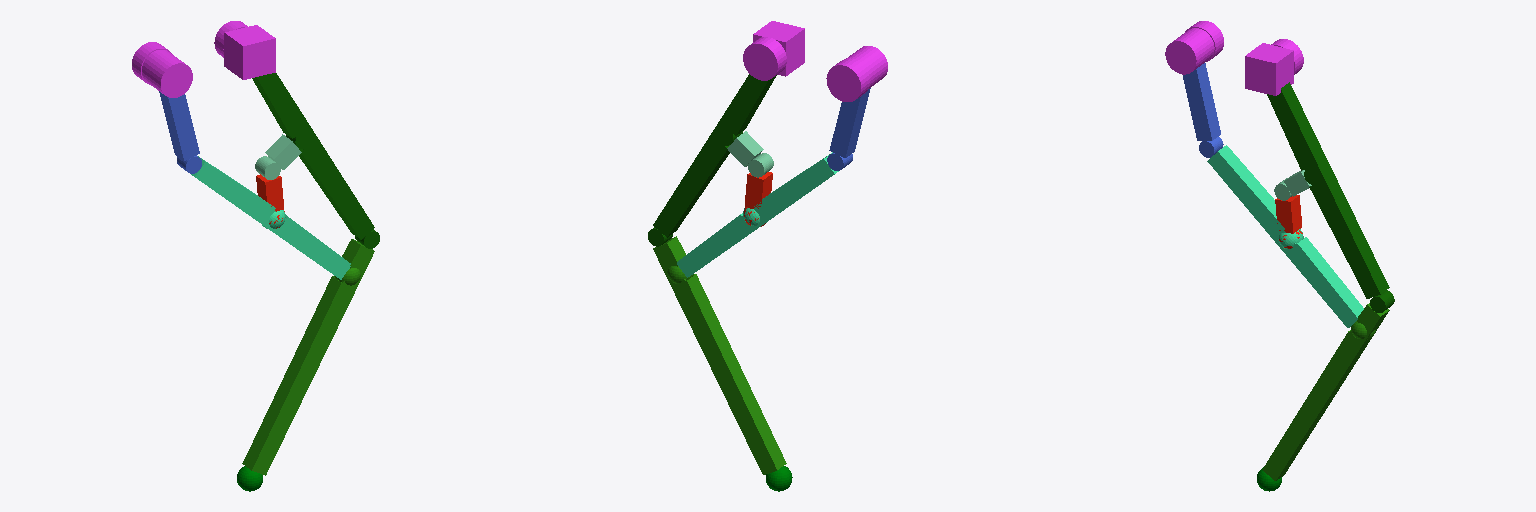
The robot description file, URDF, robot "Robot":
<?xml version="1.0"?>
<robot  name="Robot" >
 <link  name="G" >
  <visual >
   <origin  rpy="0.0 0.0 0.0"  xyz="0.0 0.0 0.0" />
   <geometry >
    <box  size="0.08 0.08 0.08" />
   </geometry>
   <material  name="G_Material" >
    <color  rgba="0.9223691772363326 0.2848757357348535 0.9494860424765409 1.0" />
   </material>
  </visual>
  <collision  name="G_Collision" >
   <origin  rpy="0.0 0.0 0.0"  xyz="0.0 0.0 0.0" />
   <geometry >
    <box  size="0.08 0.08 0.08" />
   </geometry>
  </collision>
  <inertial >
   <origin  rpy="0.0 0.0 0.0"  xyz="0.0 0.0 0.0" />
   <mass  value="0.4937142857142858" />
   <inertia  iyy="0.0005266285714285715"  iyz="0.0"  ixx="0.0005266285714285715"  ixy="0.0"  ixz="0.0"  izz="0.0005266285714285715" />
  </inertial>
 </link>
 <link  name="L4411" >
  <visual >
   <origin  rpy="0.0 0.035072854684332855 0.0"  xyz="0.004477741413357842 0.0 0.12761736311897556" />
   <geometry >
    <box  size="0.03999999910593033 0.03999999910593033 0.21539179040661732" />
   </geometry>
   <material  name="L4411_Material" >
    <color  rgba="0.1035849832252459 0.42423163126167585 0.04983455150299154 1.0" />
   </material>
  </visual>
  <collision  name="L4411_0_Collision" >
   <origin  rpy="0.0 0.035072854684332855 0.0"  xyz="0.004477741413357842 0.0 0.12761736311897556" />
   <geometry >
    <box  size="0.03999999910593033 0.03999999910593033 0.21539179040661732" />
   </geometry>
  </collision>
  <visual >
   <origin  rpy="0.0 0.0 0.0"  xyz="-1.3877787807814457e-17 0.0 0.28867513459481287" />
   <geometry >
    <box  size="0.03999999910593033 0.03999999910593033 0.5373502700836954" />
   </geometry>
   <material  name="L4411_Material" >
    <color  rgba="0.1035849832252459 0.42423163126167585 0.04983455150299154 1.0" />
   </material>
  </visual>
  <collision  name="L4411_1_Collision" >
   <origin  rpy="0.0 0.0 0.0"  xyz="-1.3877787807814457e-17 0.0 0.28867513459481287" />
   <geometry >
    <box  size="0.03999999910593033 0.03999999910593033 0.5373502700836954" />
   </geometry>
  </collision>
  <visual >
   <origin  rpy="0.0 -0.0277949223337437 0.0"  xyz="0.004477741413357828 0.0 0.4162924977137884" />
   <geometry >
    <box  size="0.03999999910593033 0.03999999910593033 0.28224001033379104" />
   </geometry>
   <material  name="L4411_Material" >
    <color  rgba="0.1035849832252459 0.42423163126167585 0.04983455150299154 1.0" />
   </material>
  </visual>
  <collision  name="L4411_2_Collision" >
   <origin  rpy="0.0 -0.0277949223337437 0.0"  xyz="0.004477741413357828 0.0 0.4162924977137884" />
   <geometry >
    <box  size="0.03999999910593033 0.03999999910593033 0.28224001033379104" />
   </geometry>
  </collision>
  <inertial >
   <origin  rpy="0.0 0.0 0.0"  xyz="0.00299 0.0 0.27753" />
   <mass  value="0.9908498424831981" />
   <inertia  iyy="0.3213664821562122"  iyz="-4.6116179417668355e-20"  ixx="0.29572211892598627"  ixy="2.176049573599396e-19"  ixz="0.08384371106712271"  izz="0.02590858984307628" />
  </inertial>
 </link>
 <link  name="L4412" >
  <visual >
   <origin  rpy="0.0 0.0 0.0"  xyz="2.7755575615628914e-17 0.0 0.28867513459481287" />
   <geometry >
    <box  size="0.03999999910593033 0.03999999910593033 0.5373502700836954" />
   </geometry>
   <material  name="L4412_Material" >
    <color  rgba="0.2093543655096074 0.5780114191403481 0.09815420277582132 1.0" />
   </material>
  </visual>
  <collision  name="L4412_0_Collision" >
   <origin  rpy="0.0 0.0 0.0"  xyz="2.7755575615628914e-17 0.0 0.28867513459481287" />
   <geometry >
    <box  size="0.03999999910593033 0.03999999910593033 0.5373502700836954" />
   </geometry>
  </collision>
  <visual >
   <origin  rpy="3.141592653589793 0.00911101190014696 3.141592653589793"  xyz="0.0022249185436651886 0.0 0.33315599046276845" />
   <geometry >
    <box  size="0.03999999910593033 0.03999999910593033 0.44840882974734086" />
   </geometry>
   <material  name="L4412_Material" >
    <color  rgba="0.2093543655096074 0.5780114191403481 0.09815420277582132 1.0" />
   </material>
  </visual>
  <collision  name="L4412_1_Collision" >
   <origin  rpy="3.141592653589793 0.00911101190014696 3.141592653589793"  xyz="0.0022249185436651886 0.0 0.33315599046276845" />
   <geometry >
    <box  size="0.03999999910593033 0.03999999910593033 0.44840882974734086" />
   </geometry>
  </collision>
  <visual >
   <origin  rpy="0.0 0.04997803485604968 0.0"  xyz="0.002224918543665161 0.0 0.04448085586795561" />
   <geometry >
    <box  size="0.03999999910593033 0.03999999910593033 0.04907293283799495" />
   </geometry>
   <material  name="L4412_Material" >
    <color  rgba="0.2093543655096074 0.5780114191403481 0.09815420277582132 1.0" />
   </material>
  </visual>
  <collision  name="L4412_2_Collision" >
   <origin  rpy="0.0 0.04997803485604968 0.0"  xyz="0.002224918543665161 0.0 0.04448085586795561" />
   <geometry >
    <box  size="0.03999999910593033 0.03999999910593033 0.04907293283799495" />
   </geometry>
  </collision>
  <inertial >
   <origin  rpy="0.0 0.0 0.0"  xyz="0.00148 0.0 0.2221" />
   <mass  value="0.940693294812623" />
   <inertia  iyy="0.9275700726171535"  iyz="-6.046907708095072e-20"  ixx="0.9017885920244411"  ixy="-1.5014627027736477e-19"  ixz="0.11980997992325852"  izz="0.026032332126781917" />
  </inertial>
 </link>
 <link  name="EE" >
  <visual >
   <origin  rpy="0.0 0.0 0.0"  xyz="0.0 0.0 0.0" />
   <geometry >
    <sphere  radius="0.028571428571428574" />
   </geometry>
   <material  name="EE_Material" >
    <color  rgba="0.004372847966634175 0.5231488986650454 0.0580994150375147 1.0" />
   </material>
  </visual>
  <collision  name="EE_Collision" >
   <origin  rpy="0.0 0.0 0.0"  xyz="0.0 0.0 0.0" />
   <geometry >
    <sphere  radius="0.028571428571428574" />
   </geometry>
  </collision>
  <inertial >
   <origin  rpy="0.0 0.0 0.0"  xyz="0.0 0.0 0.0" />
   <mass  value="0.09420852605517083" />
   <inertia  iyy="3.0761967691484357e-05"  iyz="0.0"  ixx="3.0761967691484357e-05"  ixy="0.0"  ixz="0.0"  izz="3.0761967691484357e-05" />
  </inertial>
 </link>
 <link  name="L4414" >
  <visual >
   <origin  rpy="0.0 0.0 0.0"  xyz="0.0 0.0 0.11301" />
   <geometry >
    <box  size="0.04 0.04 0.18601798342127765" />
   </geometry>
   <material  name="L4414_Material" >
    <color  rgba="0.3227220159395485 0.44893804742399823 0.8622062372188565 1.0" />
   </material>
  </visual>
  <collision  name="L4414_Collision" >
   <origin  rpy="0.0 0.0 0.0"  xyz="0.0 0.0 0.11301" />
   <geometry >
    <box  size="0.04 0.04 0.18601798342127765" />
   </geometry>
  </collision>
  <inertial >
   <origin  rpy="0.0 0.0 0.0"  xyz="0.0 0.0 0.11301" />
   <mass  value="0.2869991744213998" />
   <inertia  iyy="0.0008658451822199843"  iyz="0.0"  ixx="0.0008658451822199843"  ixy="0.0"  ixz="0.0"  izz="7.653311317903995e-05" />
  </inertial>
 </link>
 <link  name="L4413" >
  <visual >
   <origin  rpy="3.141592653589793 0.02324605577165406 3.141592653589793"  xyz="-0.0031294073391981703 0.0 0.1345967531370239" />
   <geometry >
    <box  size="0.03999999910593033 0.03999999910593033 0.22926625682171897" />
   </geometry>
   <material  name="L4413_Material" >
    <color  rgba="0.28305287027583437 0.8938670313898764 0.6508395222179674 1.0" />
   </material>
  </visual>
  <collision  name="L4413_0_Collision" >
   <origin  rpy="3.141592653589793 0.02324605577165406 3.141592653589793"  xyz="-0.0031294073391981703 0.0 0.1345967531370239" />
   <geometry >
    <box  size="0.03999999910593033 0.03999999910593033 0.22926625682171897" />
   </geometry>
  </collision>
  <visual >
   <origin  rpy="0.0 0.024424200192840306 0.0"  xyz="-0.0031294073391980592 0.0 0.3972953485414217" />
   <geometry >
    <box  size="0.03999999910593033 0.03999999910593033 0.21628012250001682" />
   </geometry>
   <material  name="L4413_Material" >
    <color  rgba="0.28305287027583437 0.8938670313898764 0.6508395222179674 1.0" />
   </material>
  </visual>
  <collision  name="L4413_1_Collision" >
   <origin  rpy="0.0 0.024424200192840306 0.0"  xyz="-0.0031294073391980592 0.0 0.3972953485414217" />
   <geometry >
    <box  size="0.03999999910593033 0.03999999910593033 0.21628012250001682" />
   </geometry>
  </collision>
  <visual >
   <origin  rpy="0.0 0.0 0.0"  xyz="1.1102230246251565e-16 0.0 0.26269859540439777" />
   <geometry >
    <box  size="0.03999999910593033 0.03999999910593033 0.4853971917028652" />
   </geometry>
   <material  name="L4413_Material" >
    <color  rgba="0.28305287027583437 0.8938670313898764 0.6508395222179674 1.0" />
   </material>
  </visual>
  <collision  name="L4413_2_Collision" >
   <origin  rpy="0.0 0.0 0.0"  xyz="1.1102230246251565e-16 0.0 0.26269859540439777" />
   <geometry >
    <box  size="0.03999999910593033 0.03999999910593033 0.4853971917028652" />
   </geometry>
  </collision>
  <inertial >
   <origin  rpy="0.0 0.0 0.0"  xyz="-0.00209 0.0 0.26486" />
   <mass  value="0.8743199175045991" />
   <inertia  iyy="0.40511207420757617"  iyz="-2.815494754389841e-19"  ixx="0.3924110537910397"  ixy="-6.32685022123516e-20"  ixz="0.037897682759646084"  izz="0.01293417238411505" />
  </inertial>
 </link>
 <link  name="L4415" >
  <visual >
   <origin  rpy="0.0 0.0 0.0"  xyz="-0.0 0.0 0.05831" />
   <geometry >
    <box  size="0.04 0.04 0.07661789187736198" />
   </geometry>
   <material  name="L4415_Material" >
    <color  rgba="0.9589104484253423 0.17957973491358115 0.08175136133361638 1.0" />
   </material>
  </visual>
  <collision  name="L4415_Collision" >
   <origin  rpy="0.0 0.0 0.0"  xyz="-0.0 0.0 0.05831" />
   <geometry >
    <box  size="0.04 0.04 0.07661789187736198" />
   </geometry>
  </collision>
  <inertial >
   <origin  rpy="0.0 0.0 0.0"  xyz="-0.0 0.0 0.05831" />
   <mass  value="0.1182104617536442" />
   <inertia  iyy="7.358898105832093e-05"  iyz="0.0"  ixx="7.358898105832093e-05"  ixy="0.0"  ixz="0.0"  izz="3.152278980097179e-05" />
  </inertial>
 </link>
 <link  name="L4416" >
  <visual >
   <origin  rpy="0.0 0.0 0.0"  xyz="0.0 0.0 0.04736" />
   <geometry >
    <box  size="0.04 0.04 0.05472751620321848" />
   </geometry>
   <material  name="L4416_Material" >
    <color  rgba="0.5011330456506692 0.8103434373824091 0.6484594447397842 1.0" />
   </material>
  </visual>
  <collision  name="L4416_Collision" >
   <origin  rpy="0.0 0.0 0.0"  xyz="0.0 0.0 0.04736" />
   <geometry >
    <box  size="0.04 0.04 0.05472751620321848" />
   </geometry>
  </collision>
  <inertial >
   <origin  rpy="0.0 0.0 0.0"  xyz="0.0 0.0 0.04736" />
   <mass  value="0.08443673928496567" />
   <inertia  iyy="3.233294563658881e-05"  iyz="0.0"  ixx="3.233294563658881e-05"  ixy="0.0"  ixz="0.0"  izz="2.2516463809324178e-05" />
  </inertial>
 </link>
 <joint  type="revolute"  name="TL_ground" >
  <parent  link="G" />
  <child  link="L4411" />
  <origin  rpy="3.141592653589793 0.5235987755982991 3.141592653589793"  xyz="0.0 0.0 0.0" />
  <axis  xyz="0 1 0" />
  <limit  effort="10.799999999999999"  velocity="29.845130209103036"  lower="-3.141592653589793"  upper="3.141592653589793" />
  <dynamics  damping="0.05"  friction="0" />
 </joint>
 <joint  type="fixed"  name="TL_ground_G_WeldActuator" >
  <parent  link="G" />
  <child  link="TL_ground_GActuator" />
  <origin  rpy="-1.5707963267948966 0.5235987755982991 -3.141592653589793"  xyz="0.0 0.05925 0.0" />
 </joint>
 <link  name="TL_ground_GActuator" >
  <visual >
   <geometry >
    <cylinder  length="0.0385"  radius="0.0425" />
   </geometry>
   <material  name="TL_ground_GActuator_Material" >
    <color  rgba="0.9223691772363326 0.2848757357348535 0.9494860424765409 0.9" />
   </material>
  </visual>
  <inertial >
   <inertia  iyy="0.006709166666666667"  iyz="0.0"  ixx="0.006709166666666667"  ixy="0.0"  ixz="0.0"  izz="0.010306250000000001" />
   <mass  value="0.1" />
  </inertial>
 </link>
 <link  name="TL_ground_GUnit" >
  <visual >
   <geometry >
    <cylinder  length="0.08"  radius="0.04" />
   </geometry>
   <material  name="TL_ground_GUnit_Material" >
    <color  rgba="0.9223691772363326 0.2848757357348535 0.9494860424765409 0.9" />
   </material>
  </visual>
  <inertial >
   <inertia  iyy="0.0016666666666666666"  iyz="0.0"  ixx="0.0016666666666666666"  ixy="0.0"  ixz="0.0"  izz="0.002" />
   <mass  value="0.1" />
  </inertial>
 </link>
 <joint  type="fixed"  name="TL_ground_G_WeldUnit" >
  <parent  link="G" />
  <child  link="TL_ground_GUnit" />
  <origin  rpy="-1.5707963267948966 0.5235987755982991 -3.141592653589793"  xyz="0.0 0.0 0.0" />
 </joint>
 <joint  type="revolute"  name="TL_knee" >
  <parent  link="L4411" />
  <child  link="L4412" />
  <origin  rpy="0.0 1.0471975511965979 0.0"  xyz="-2.7755575615628914e-17 0.0 0.5773502691896257" />
  <axis  xyz="0 1 0" />
  <limit  effort="600.0"  velocity="6.283185307179586"  lower="-3.141592653589793"  upper="3.141592653589793" />
  <dynamics  damping="0.05"  friction="0" />
 </joint>
 <link  name="TL_knee_L4411Unit" >
  <visual >
   <geometry >
    <cylinder  length="0.03999999910593033"  radius="0.019999999552965164" />
   </geometry>
   <material  name="TL_knee_L4411Unit_Material" >
    <color  rgba="0.1035849832252459 0.42423163126167585 0.04983455150299154 0.9" />
   </material>
  </visual>
  <inertial >
   <inertia  iyy="0.0008333333147068819"  iyz="0.0"  ixx="0.0008333333147068819"  ixy="0.0"  ixz="0.0"  izz="0.0009999999776482583" />
   <mass  value="0.1" />
  </inertial>
 </link>
 <joint  type="fixed"  name="TL_knee_L4411_WeldUnit" >
  <parent  link="L4411" />
  <child  link="TL_knee_L4411Unit" />
  <origin  rpy="1.5707963267948961 1.0471975511965979 -2.220446049250313e-16"  xyz="-2.7755575615628914e-17 0.0 0.5773502691896257" />
 </joint>
 <joint  type="revolute"  name="TL_ee" >
  <parent  link="L4412" />
  <child  link="EE" />
  <origin  rpy="3.141592653589793 0.5235987755982991 3.141592653589793"  xyz="5.551115123125783e-17 0.0 0.5773502691896257" />
  <axis  xyz="0 1 0" />
  <limit  effort="600.0"  velocity="6.283185307179586"  lower="-3.141592653589793"  upper="3.141592653589793" />
  <dynamics  damping="0.05"  friction="0" />
 </joint>
 <link  name="TL_ee_L4412Unit" >
  <visual >
   <geometry >
    <cylinder  length="0.03999999910593033"  radius="0.019999999552965164" />
   </geometry>
   <material  name="TL_ee_L4412Unit_Material" >
    <color  rgba="0.2093543655096074 0.5780114191403481 0.09815420277582132 0.9" />
   </material>
  </visual>
  <inertial >
   <inertia  iyy="0.0008333333147068819"  iyz="0.0"  ixx="0.0008333333147068819"  ixy="0.0"  ixz="0.0"  izz="0.0009999999776482583" />
   <mass  value="0.1" />
  </inertial>
 </link>
 <joint  type="fixed"  name="TL_ee_L4412_WeldUnit" >
  <parent  link="L4412" />
  <child  link="TL_ee_L4412Unit" />
  <origin  rpy="-1.5707963267948966 0.5235987755982991 -3.141592653589793"  xyz="5.551115123125783e-17 0.0 0.5773502691896257" />
 </joint>
 <joint  type="revolute"  name="FL_branch_ground" >
  <parent  link="G" />
  <child  link="L4414" />
  <origin  rpy="3.141592653589793 0.24270792727437418 3.141592653589793"  xyz="-0.2034435925467171 0.0 -0.0027784057769210083" />
  <axis  xyz="0 1 0" />
  <limit  effort="10.799999999999999"  velocity="29.845130209103036"  lower="-3.141592653589793"  upper="3.141592653589793" />
  <dynamics  damping="0.05"  friction="0" />
 </joint>
 <joint  type="fixed"  name="FL_branch_ground_G_WeldActuator" >
  <parent  link="G" />
  <child  link="FL_branch_ground_GActuator" />
  <origin  rpy="-1.570796326794897 0.24270792727437418 3.1415926535897927"  xyz="-0.2034435925467171 0.05925 -0.0027784057769210083" />
 </joint>
 <link  name="FL_branch_ground_GActuator" >
  <visual >
   <geometry >
    <cylinder  length="0.0385"  radius="0.0425" />
   </geometry>
   <material  name="FL_branch_ground_GActuator_Material" >
    <color  rgba="0.9223691772363326 0.2848757357348535 0.9494860424765409 0.9" />
   </material>
  </visual>
  <inertial >
   <inertia  iyy="0.006709166666666667"  iyz="0.0"  ixx="0.006709166666666667"  ixy="0.0"  ixz="0.0"  izz="0.010306250000000001" />
   <mass  value="0.1" />
  </inertial>
 </link>
 <link  name="FL_branch_ground_GUnit" >
  <visual >
   <geometry >
    <cylinder  length="0.08"  radius="0.04" />
   </geometry>
   <material  name="FL_branch_ground_GUnit_Material" >
    <color  rgba="0.9223691772363326 0.2848757357348535 0.9494860424765409 0.9" />
   </material>
  </visual>
  <inertial >
   <inertia  iyy="0.0016666666666666666"  iyz="0.0"  ixx="0.0016666666666666666"  ixy="0.0"  ixz="0.0"  izz="0.002" />
   <mass  value="0.1" />
  </inertial>
 </link>
 <joint  type="fixed"  name="FL_branch_ground_G_WeldUnit" >
  <parent  link="G" />
  <child  link="FL_branch_ground_GUnit" />
  <origin  rpy="-1.570796326794897 0.24270792727437418 3.1415926535897927"  xyz="-0.2034435925467171 0.0 -0.0027784057769210083" />
 </joint>
 <joint  type="revolute"  name="FL_branch_j0" >
  <parent  link="L4414" />
  <child  link="L4413" />
  <origin  rpy="0.0 -0.5922629381678485 0.0"  xyz="5.551115123125783e-17 0.0 0.22601798342127757" />
  <axis  xyz="0 1 0" />
  <limit  effort="600.0"  velocity="6.283185307179586"  lower="-3.141592653589793"  upper="3.141592653589793" />
  <dynamics  damping="0.05"  friction="0" />
 </joint>
 <link  name="FL_branch_j0_L4414Unit" >
  <visual >
   <geometry >
    <cylinder  length="0.04"  radius="0.02" />
   </geometry>
   <material  name="FL_branch_j0_L4414Unit_Material" >
    <color  rgba="0.3227220159395485 0.44893804742399823 0.8622062372188565 0.9" />
   </material>
  </visual>
  <inertial >
   <inertia  iyy="0.0008333333333333333"  iyz="0.0"  ixx="0.0008333333333333333"  ixy="0.0"  ixz="0.0"  izz="0.001" />
   <mass  value="0.1" />
  </inertial>
 </link>
 <joint  type="fixed"  name="FL_branch_j0_L4414_WeldUnit" >
  <parent  link="L4414" />
  <child  link="FL_branch_j0_L4414Unit" />
  <origin  rpy="1.5707963267948961 -0.5922629381678486 2.220446049250313e-16"  xyz="5.551115123125783e-17 0.0 0.22601798342127757" />
 </joint>
 <link  name="FL_branch_j1_L4413Pseudo" >
  <visual >
   <geometry >
    <sphere  radius="0.02857142793280738" />
   </geometry>
   <material  name="FL_branch_j1_L4413Pseudo_Material" >
    <color  rgba="0.28305287027583437 0.8938670313898764 0.6508395222179674 0.5" />
   </material>
  </visual>
  <inertial >
   <mass  value="0.05" />
   <inertia  iyy="1.632652988239212e-05"  iyz="0.0"  ixx="1.632652988239212e-05"  ixy="0.0"  ixz="0.0"  izz="1.632652988239212e-05" />
  </inertial>
 </link>
 <joint  type="revolute"  name="FL_branch_j1_L4413_revolute" >
  <parent  link="L4413" />
  <child  link="FL_branch_j1_L4413Pseudo" />
  <origin  rpy="0.0 0.0 0.0"  xyz="-0.0062588146783963405 0.0 0.2691935062740478" />
  <axis  xyz="0 1 0" />
  <limit  effort="600.0"  velocity="6.283185307179586"  lower="-3.141592653589793"  upper="3.141592653589793" />
  <dynamics  damping="0.05"  friction="0" />
 </joint>
 <joint  type="fixed"  name="FL_branch_j1_L4413_Weld" >
  <parent  link="L4415" />
  <child  link="FL_branch_j1_L4415Pseudo" />
  <origin  rpy="0.0 -0.7427504247421 0.0"  xyz="0.0 0.0 0.11661789187736196" />
 </joint>
 <link  name="FL_branch_j1_L4415Pseudo" >
  <visual >
   <geometry >
    <sphere  radius="0.028571428571428574" />
   </geometry>
   <material  name="FL_branch_j1_L4415Pseudo_Material" >
    <color  rgba="0.9589104484253423 0.17957973491358115 0.08175136133361638 0.5" />
   </material>
  </visual>
  <inertial >
   <mass  value="0.05" />
   <inertia  iyy="1.6326530612244903e-05"  iyz="0.0"  ixx="1.6326530612244903e-05"  ixy="0.0"  ixz="0.0"  izz="1.6326530612244903e-05" />
  </inertial>
 </link>
 <joint  type="revolute"  name="FL_branch_j2" >
  <parent  link="L4416" />
  <child  link="L4415" />
  <origin  rpy="0.0 -1.0229607960636424 0.0"  xyz="0.0 0.0 0.09472751620321848" />
  <axis  xyz="0 1 0" />
  <limit  effort="600.0"  velocity="6.283185307179586"  lower="-3.141592653589793"  upper="3.141592653589793" />
  <dynamics  damping="0.05"  friction="0" />
 </joint>
 <link  name="FL_branch_j2_L4416Unit" >
  <visual >
   <geometry >
    <cylinder  length="0.04"  radius="0.02" />
   </geometry>
   <material  name="FL_branch_j2_L4416Unit_Material" >
    <color  rgba="0.5011330456506692 0.8103434373824091 0.6484594447397842 0.9" />
   </material>
  </visual>
  <inertial >
   <inertia  iyy="0.0008333333333333333"  iyz="0.0"  ixx="0.0008333333333333333"  ixy="0.0"  ixz="0.0"  izz="0.001" />
   <mass  value="0.1" />
  </inertial>
 </link>
 <joint  type="fixed"  name="FL_branch_j2_L4416_WeldUnit" >
  <parent  link="L4416" />
  <child  link="FL_branch_j2_L4416Unit" />
  <origin  rpy="1.5707963267948966 -1.0229607960636424 -1.1102230246251565e-16"  xyz="0.0 0.0 0.09472751620321848" />
 </joint>
 <joint  type="revolute"  name="FL_branch_top" >
  <parent  link="L4411" />
  <child  link="L4416" />
  <origin  rpy="0.0 1.4543391309618188 0.0"  xyz="0.008955482826715684 0.0 0.2552347262379511" />
  <axis  xyz="0 1 0" />
  <limit  effort="600.0"  velocity="6.283185307179586"  lower="-3.141592653589793"  upper="3.141592653589793" />
  <dynamics  damping="0.05"  friction="0" />
 </joint>
 <link  name="FL_branch_top_L4411Unit" >
  <visual >
   <geometry >
    <cylinder  length="0.03999999910593033"  radius="0.019999999552965164" />
   </geometry>
   <material  name="FL_branch_top_L4411Unit_Material" >
    <color  rgba="0.1035849832252459 0.42423163126167585 0.04983455150299154 0.9" />
   </material>
  </visual>
  <inertial >
   <inertia  iyy="0.0008333333147068819"  iyz="0.0"  ixx="0.0008333333147068819"  ixy="0.0"  ixz="0.0"  izz="0.0009999999776482583" />
   <mass  value="0.1" />
  </inertial>
 </link>
 <joint  type="fixed"  name="FL_branch_top_L4411_WeldUnit" >
  <parent  link="L4411" />
  <child  link="FL_branch_top_L4411Unit" />
  <origin  rpy="1.5707963267948966 1.4543391309618188 1.1102230246251565e-16"  xyz="0.008955482826715684 0.0 0.2552347262379511" />
 </joint>
 <link  name="FL_branch_bot_L4412Pseudo" >
  <visual >
   <geometry >
    <sphere  radius="0.02857142793280738" />
   </geometry>
   <material  name="FL_branch_bot_L4412Pseudo_Material" >
    <color  rgba="0.2093543655096074 0.5780114191403481 0.09815420277582132 0.5" />
   </material>
  </visual>
  <inertial >
   <mass  value="0.05" />
   <inertia  iyy="1.632652988239212e-05"  iyz="0.0"  ixx="1.632652988239212e-05"  ixy="0.0"  ixz="0.0"  izz="1.632652988239212e-05" />
  </inertial>
 </link>
 <joint  type="revolute"  name="FL_branch_bot_L4412_revolute" >
  <parent  link="L4412" />
  <child  link="FL_branch_bot_L4412Pseudo" />
  <origin  rpy="3.141592653589793 0.5235987755982991 3.141592653589793"  xyz="0.004449837087330322 0.0 0.08896171173591122" />
  <axis  xyz="0 1 0" />
  <limit  effort="600.0"  velocity="6.283185307179586"  lower="-3.141592653589793"  upper="3.141592653589793" />
  <dynamics  damping="0.05"  friction="0" />
 </joint>
 <joint  type="fixed"  name="FL_branch_bot_L4412_Weld" >
  <parent  link="L4413" />
  <child  link="FL_branch_bot_L4413Pseudo" />
  <origin  rpy="3.141592653589793 -0.8349708654422228 3.141592653589793"  xyz="1.6653345369377348e-16 0.0 0.5253971908087954" />
 </joint>
 <link  name="FL_branch_bot_L4413Pseudo" >
  <visual >
   <geometry >
    <sphere  radius="0.02857142793280738" />
   </geometry>
   <material  name="FL_branch_bot_L4413Pseudo_Material" >
    <color  rgba="0.28305287027583437 0.8938670313898764 0.6508395222179674 0.5" />
   </material>
  </visual>
  <inertial >
   <mass  value="0.05" />
   <inertia  iyy="1.632652988239212e-05"  iyz="0.0"  ixx="1.632652988239212e-05"  ixy="0.0"  ixz="0.0"  izz="1.632652988239212e-05" />
  </inertial>
 </link>
</robot>

--- Facts derived from the render (not from the file) ---
3 views of the same robot in one strip: view 1: azimuth 30°, elevation 25°; view 2: azimuth 150°, elevation 25°; view 3: azimuth 330°, elevation 25° (orthographic).
Model Robot with 21 links and 20 joints (9 revolute, 11 fixed), rooted at G, posed all joints at 0.
Links seen in each view (by area): view 1: L4412, L4411, L4413, G, FL_branch_ground_GUnit, L4414, L4415, L4416; view 2: L4412, L4411, L4413, TL_ground_GActuator, L4414, FL_branch_ground_GActuator, G, FL_branch_ground_GUnit, L4415, L4416; view 3: L4411, L4413, L4412, G, L4414, FL_branch_ground_GUnit, L4415.
Boxes of the visible links, bbox=[...] form: L4412: bbox=[242, 239, 374, 475]; L4411: bbox=[252, 73, 374, 239]; L4413: bbox=[191, 156, 350, 279]; G: bbox=[224, 25, 275, 79]; FL_branch_ground_GUnit: bbox=[142, 50, 192, 97]; L4414: bbox=[159, 91, 199, 160]; L4415: bbox=[256, 174, 283, 211]; L4416: bbox=[265, 134, 301, 169]; L4412: bbox=[653, 236, 786, 474]; L4411: bbox=[653, 74, 776, 237]; L4413: bbox=[677, 152, 838, 277]; TL_ground_GActuator: bbox=[743, 37, 786, 80]; L4414: bbox=[829, 88, 870, 157]; FL_branch_ground_GActuator: bbox=[826, 58, 869, 101]; G: bbox=[753, 21, 804, 76]; FL_branch_ground_GUnit: bbox=[846, 46, 887, 88]; L4415: bbox=[745, 172, 772, 208]; L4416: bbox=[727, 131, 763, 166]; L4411: bbox=[1267, 82, 1389, 298]; L4413: bbox=[1207, 145, 1363, 327]; L4412: bbox=[1262, 303, 1389, 480]; G: bbox=[1245, 43, 1293, 95]; L4414: bbox=[1183, 63, 1220, 140]; FL_branch_ground_GUnit: bbox=[1165, 28, 1214, 74]; L4415: bbox=[1275, 195, 1301, 233].
Size in the robot's own frame: 0.5545 by 0.1185 by 1.07 metres.
Geometry: primitives only (box / cylinder / sphere), no mesh files.
